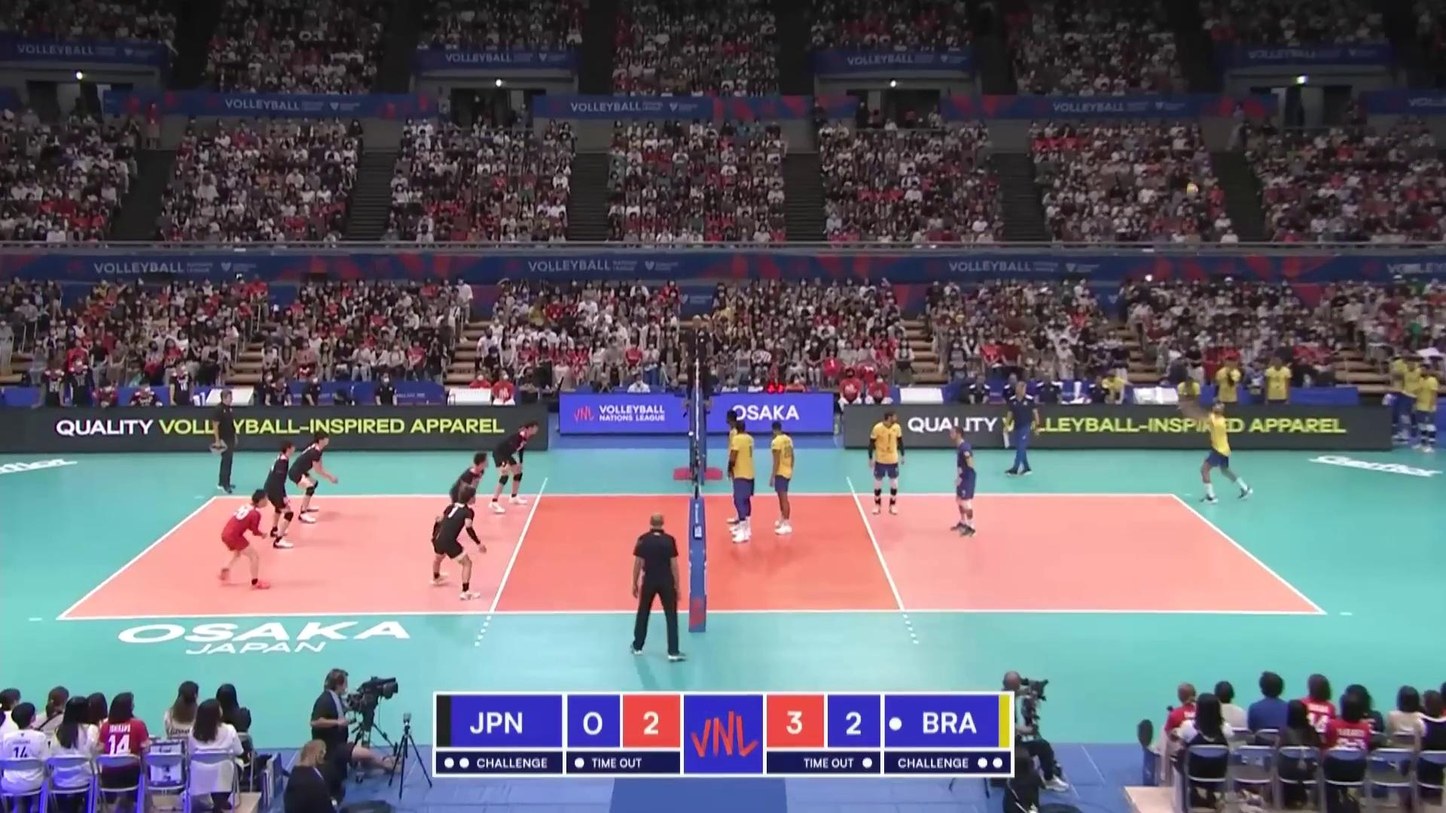player: (431, 489, 484, 597), (1199, 402, 1252, 503), (219, 491, 269, 591), (492, 422, 542, 513), (868, 411, 905, 516), (290, 430, 332, 522), (449, 452, 489, 548), (768, 420, 798, 534), (950, 425, 981, 535), (264, 442, 296, 545), (729, 420, 753, 544), (725, 410, 750, 525)
refree: (628, 514, 685, 657), (682, 316, 709, 414)
